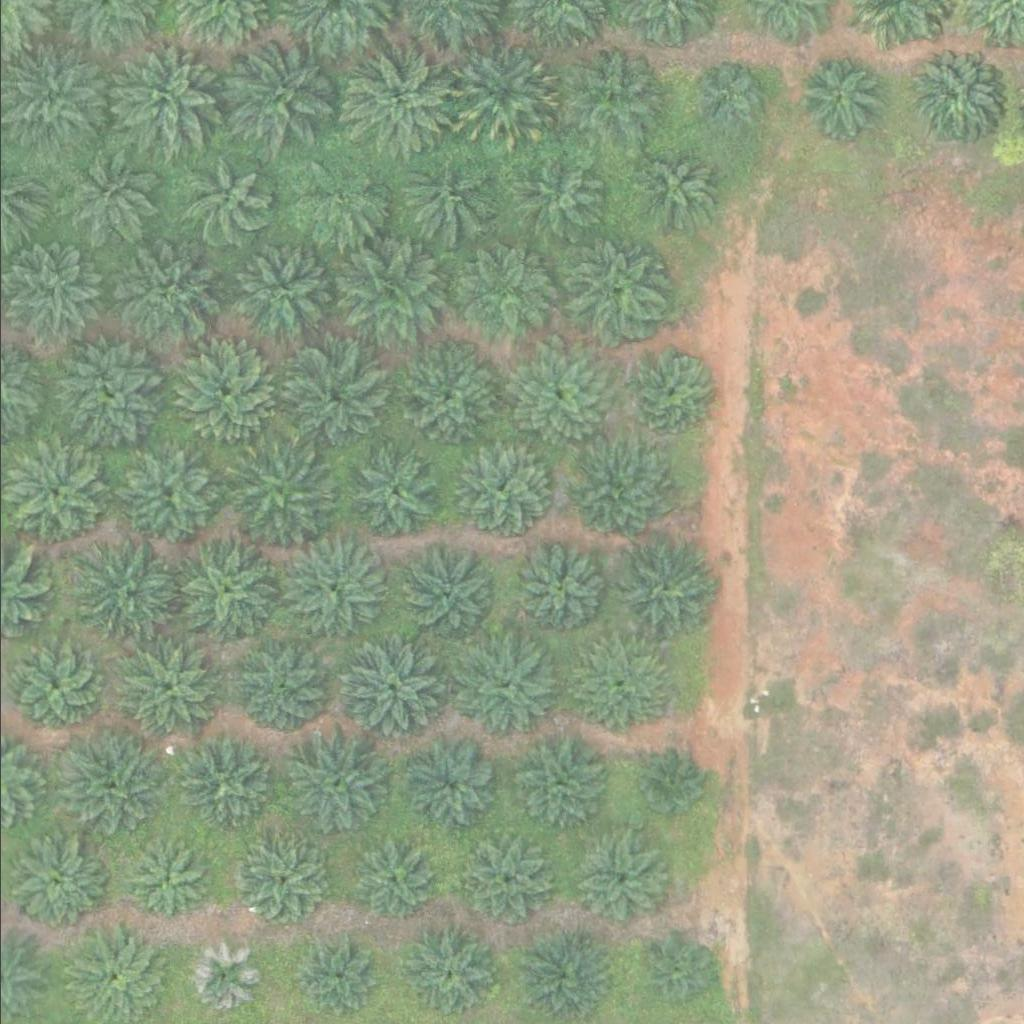Kelapa_Sawit: (500, 340, 614, 453), (388, 344, 502, 457), (224, 441, 338, 554), (167, 533, 281, 646), (68, 541, 182, 654), (445, 38, 558, 151), (341, 42, 454, 155), (224, 37, 337, 150), (102, 41, 215, 154), (278, 728, 391, 841), (274, 531, 388, 643), (52, 728, 166, 840), (331, 242, 444, 354), (223, 240, 336, 352), (274, 344, 387, 456), (50, 343, 163, 455), (604, 535, 717, 647), (334, 635, 447, 747), (560, 46, 661, 146), (111, 248, 212, 348), (175, 346, 276, 446), (561, 443, 662, 543), (118, 448, 219, 548), (502, 544, 603, 644), (396, 546, 497, 646), (564, 637, 665, 737), (458, 639, 559, 739), (506, 733, 607, 833), (398, 736, 499, 836), (174, 734, 275, 834), (568, 830, 669, 930), (3, 441, 104, 541), (903, 46, 1003, 146), (562, 239, 662, 339), (452, 252, 552, 352), (453, 443, 553, 543), (342, 446, 442, 546), (231, 638, 331, 738), (114, 640, 214, 740), (7, 834, 107, 934), (4, 637, 104, 737), (456, 838, 545, 926), (791, 51, 879, 139), (629, 146, 717, 234), (399, 157, 487, 245), (514, 932, 602, 1020), (401, 929, 489, 1017), (509, 162, 597, 249), (295, 161, 383, 248), (181, 156, 269, 243), (65, 157, 153, 244), (626, 347, 714, 434), (343, 835, 431, 922), (233, 838, 321, 925), (128, 844, 204, 919), (296, 938, 371, 1013), (182, 940, 257, 1015), (643, 939, 706, 1002), (641, 756, 704, 819), (696, 64, 759, 127)
